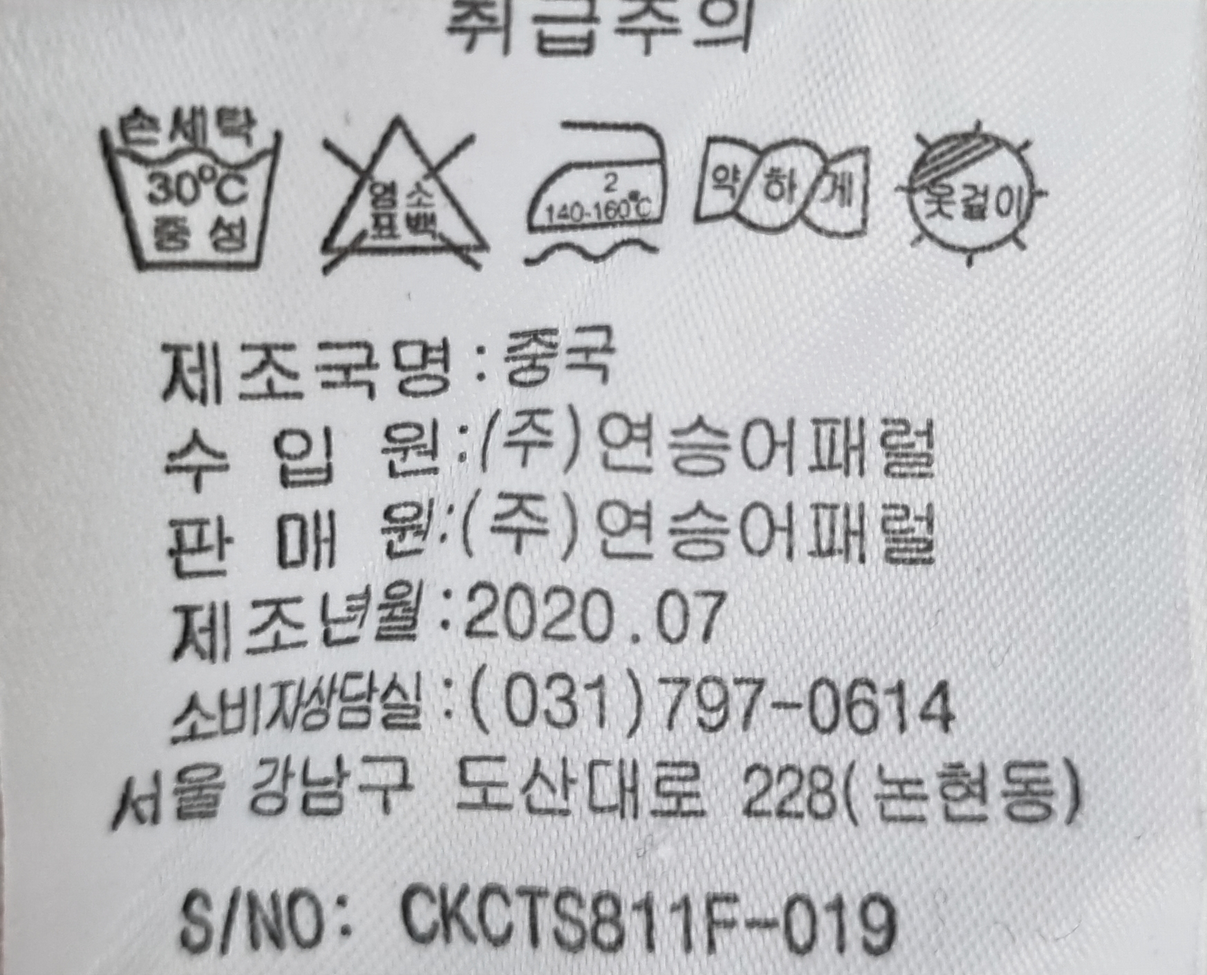KR_gentle_wring: (688, 101, 885, 275)
KR_hand_wash_30_neutral: (83, 93, 293, 302)
KR_hang_dry_in_shade: (891, 99, 1063, 284)
KR_iron_medium_temp_with_cloth: (516, 98, 673, 277)
KR_no_chlorine_bleach: (303, 105, 502, 284)
